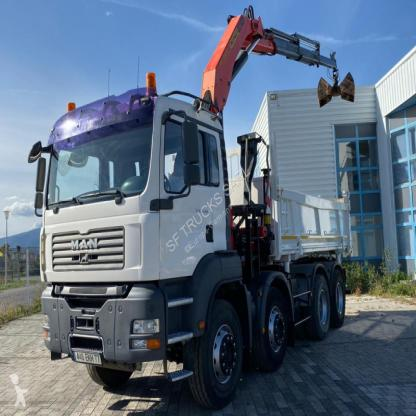dump_truck: (41, 78, 370, 402)
